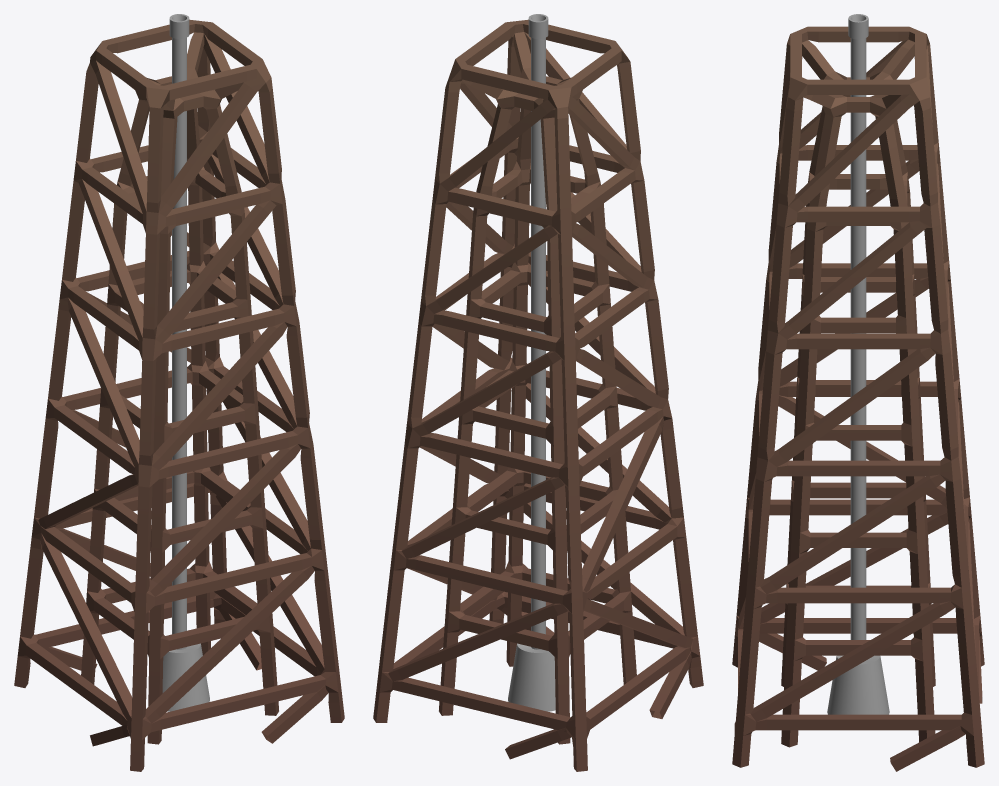
File: Oil.glb
3 views of the same model, side by side, from view 1: azimuth 30°, elevation 25°; view 2: azimuth 150°, elevation 25°; view 3: azimuth 270°, elevation 25° (orthographic).
Visible parts, largest first — view 1: oil; view 2: oil; view 3: oil.
Part boxes in pixels (bbox=[...]): oil: bbox=[14, 14, 344, 771]; oil: bbox=[373, 14, 703, 771]; oil: bbox=[732, 14, 984, 771].
Size of the model in its own units: 4.04 by 12.39 by 4.04.
Materials: 1 (1 with a texture image).
